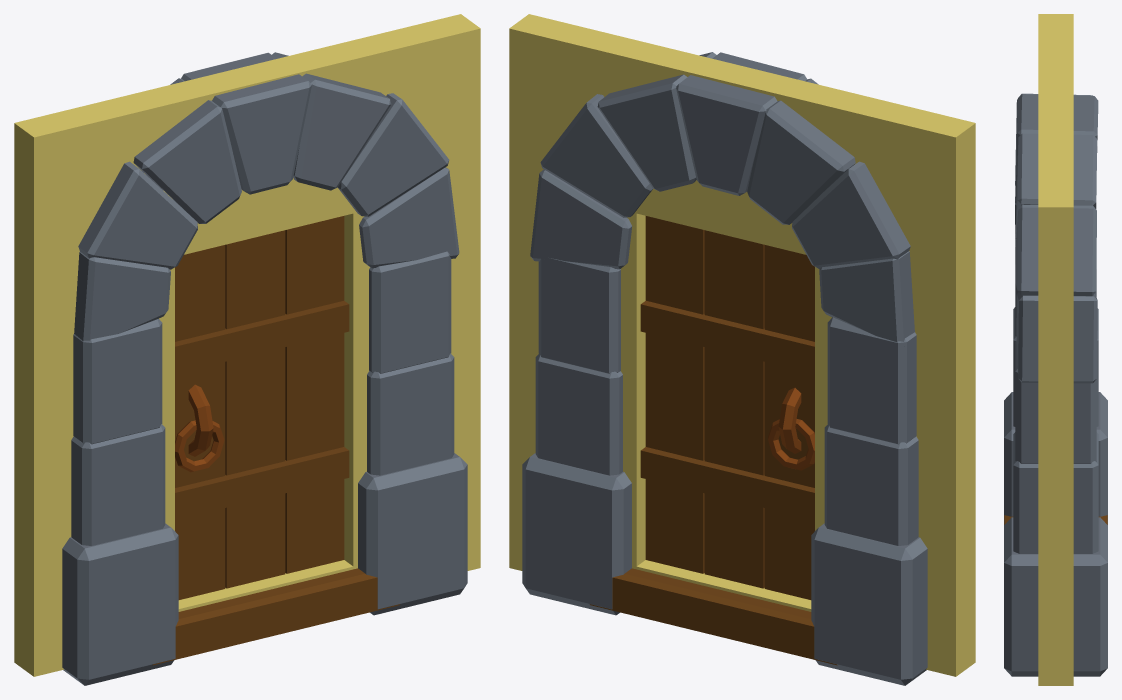
Rendered from scene_7KrIUIymdV.glb.
The picture shows the model from 3 angles, left to right: view 1: azimuth 30°, elevation 25°; view 2: azimuth 150°, elevation 25°; view 3: azimuth 270°, elevation 25°; orthographic projection. The views are drawn at different scales.
Parts seen in each view (by area): view 1: Door_Cube.007; view 2: Door_Cube.007; view 3: Door_Cube.007.
Boxes of the visible parts, x1,y1,x2,y2 form: Door_Cube.007: (14, 14, 480, 685); Door_Cube.007: (509, 14, 975, 685); Door_Cube.007: (1004, 14, 1107, 685).
Size of the model in its own units: 2.6 by 3.04 by 0.5893.
